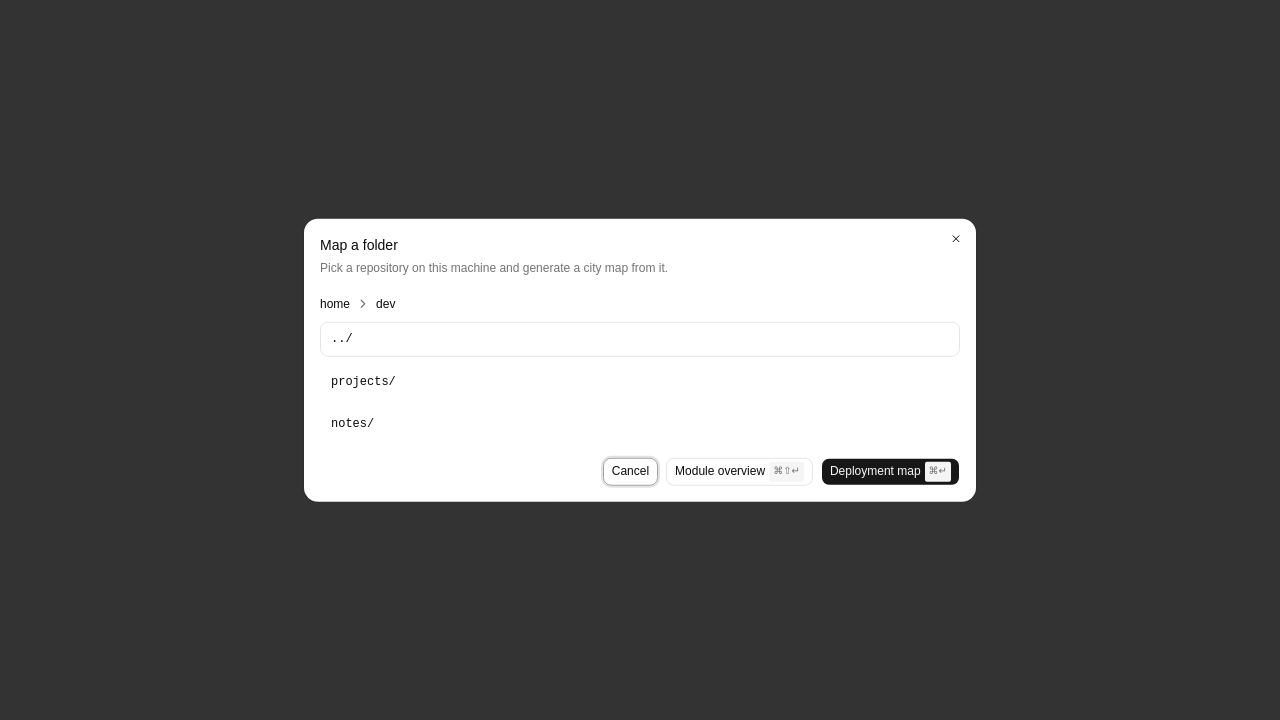
Test: FolderBrowser › given a listed folder, when it is clicked, then that folder is browsed
The width and height of the screenshot is (1280, 720).
Step 1. Click the button "projects/" → [360, 381], box [320,364,960,399]
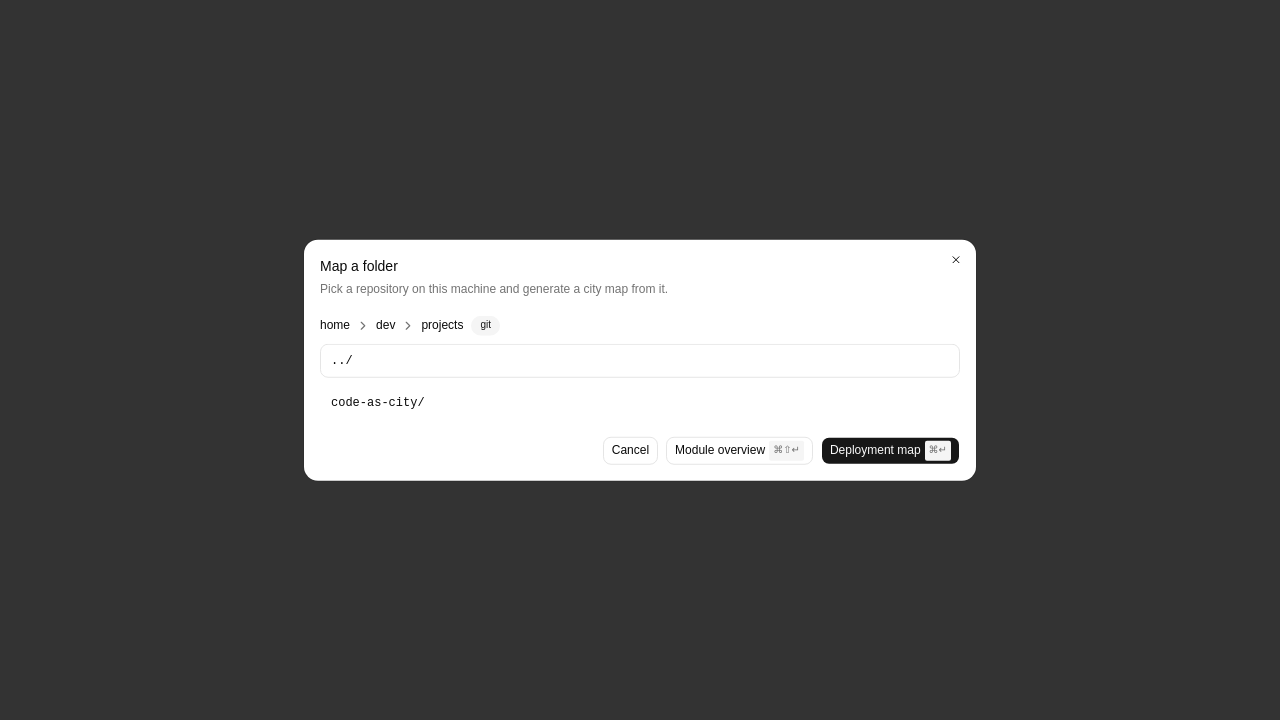
Expected: the text "code-as-city/" is shown, [331,395,425,411]
